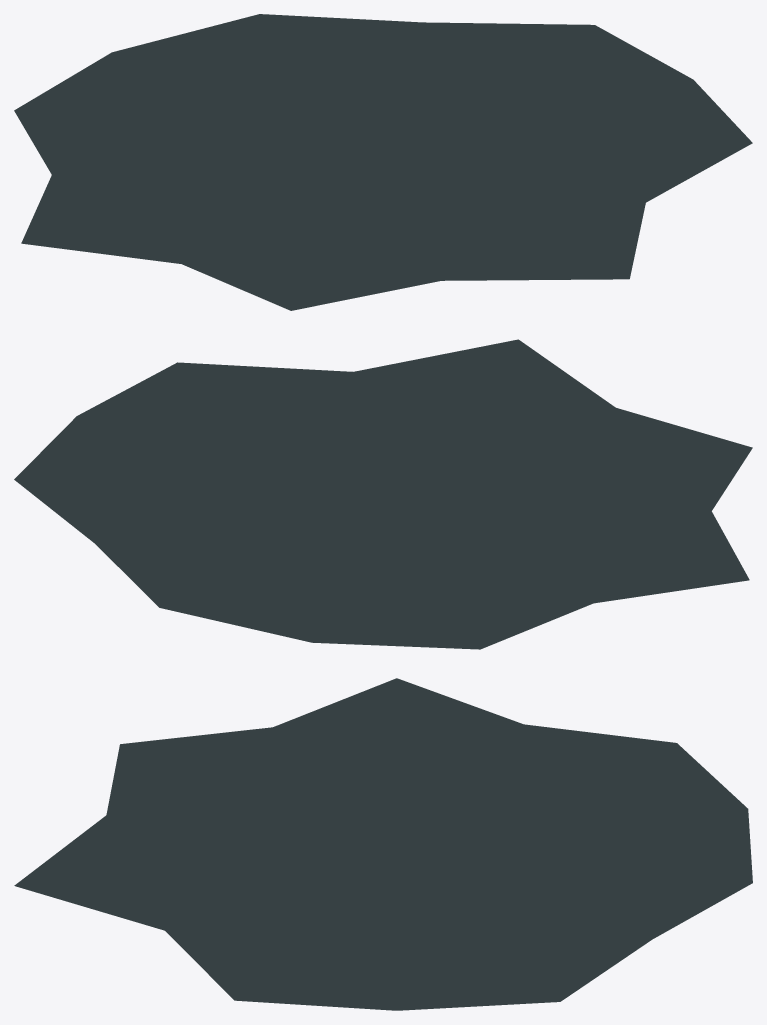
File: SM_Prop_Puddle_02.glb
3 views of the same model, one above another, from view 1: azimuth 30°, elevation 25°; view 2: azimuth 150°, elevation 25°; view 3: azimuth 270°, elevation 25° (orthographic).
Visible parts, largest first — view 1: SM_Prop_Puddle_02; view 2: SM_Prop_Puddle_02; view 3: SM_Prop_Puddle_02.
Part boxes in pixels (x1,y1,x2,y2): SM_Prop_Puddle_02: (14,14,752,310); SM_Prop_Puddle_02: (14,339,752,649); SM_Prop_Puddle_02: (14,678,752,1010).
Size of the model in its own units: 3.41 by 1.4e-07 by 3.2.
Materials: 1 (1 with a texture image).
